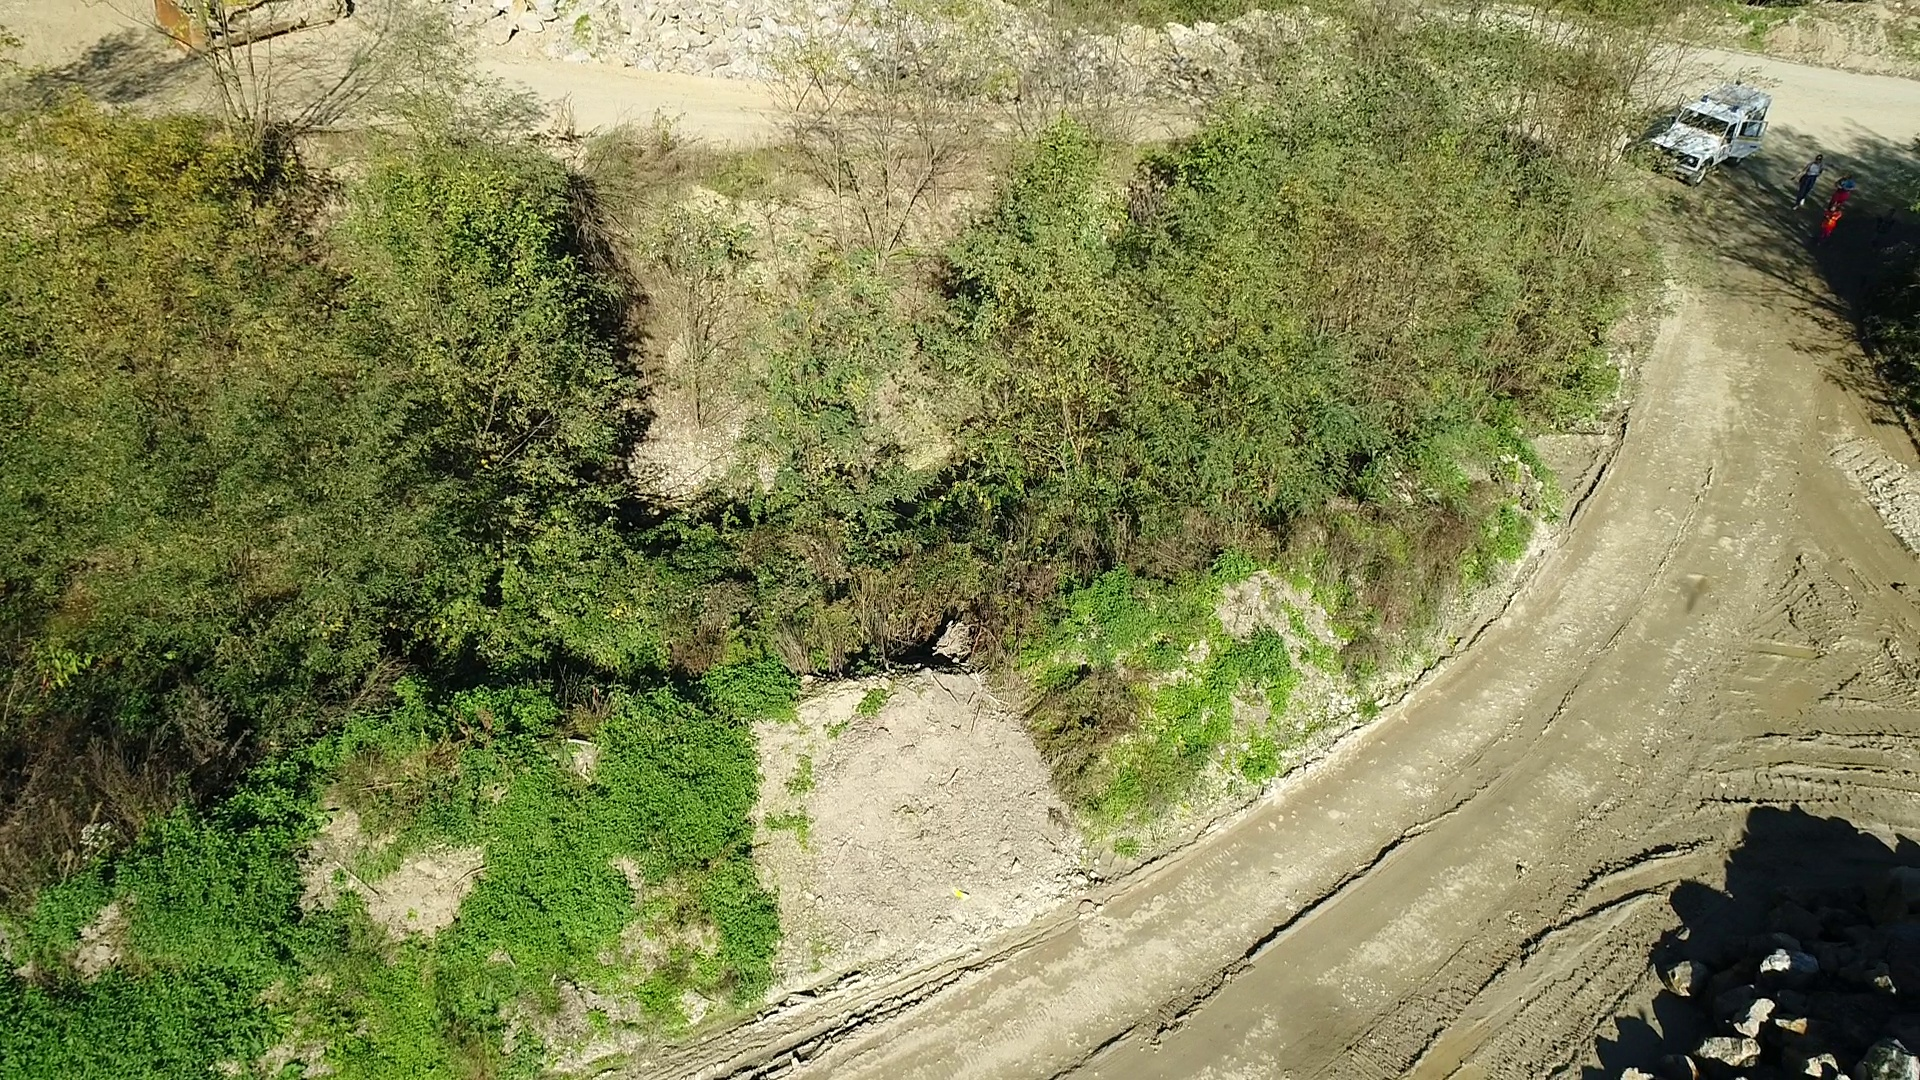person: (1790, 153, 1825, 211), (1827, 172, 1858, 212), (1815, 202, 1842, 246)
